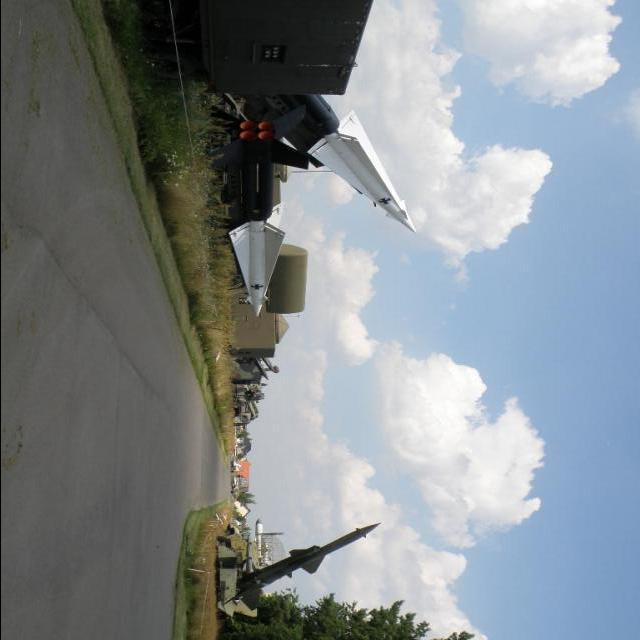missile: (238, 515, 384, 611)
